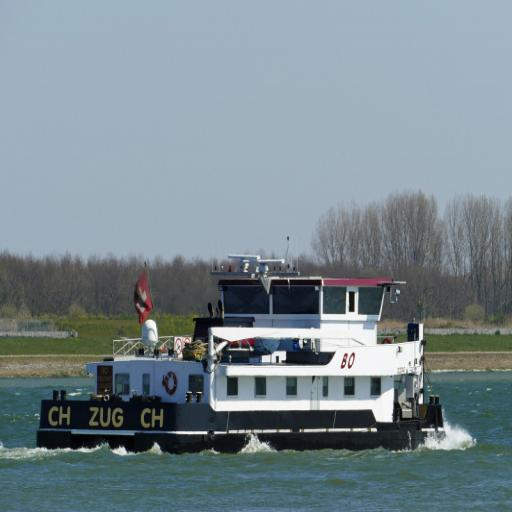tugboat: (35, 233, 450, 461)
